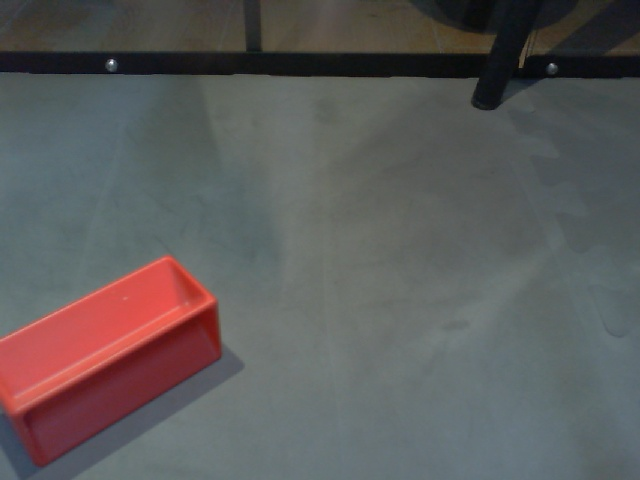RedSample: (1, 254, 223, 468)
